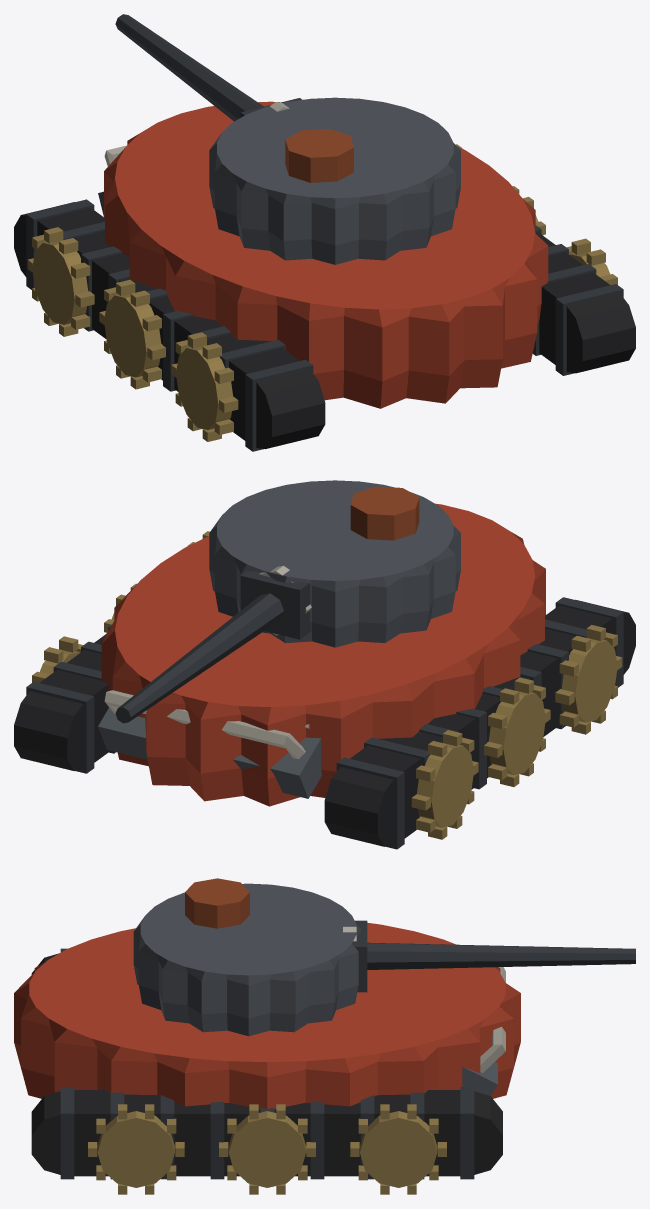
File: tank_combine.glb
3 renders of one model, top to bottom at view 1: azimuth 30°, elevation 25°; view 2: azimuth 150°, elevation 25°; view 3: azimuth 270°, elevation 25°, orthographic. The views are drawn at different scales.
Visible parts, largest first — view 1: tank_combine_body, tank_combine_turret; view 2: tank_combine_body, tank_combine_turret; view 3: tank_combine_body, tank_combine_turret.
Part boxes in pixels (x1,y1,x2,y2): tank_combine_body: [14, 101, 635, 451]; tank_combine_turret: [115, 14, 460, 264]; tank_combine_body: [14, 503, 635, 849]; tank_combine_turret: [115, 480, 460, 723]; tank_combine_body: [14, 922, 520, 1194]; tank_combine_turret: [133, 878, 635, 1036].
Bounding box in the file's own units: 6.74 × 3.52 × 9.96.
